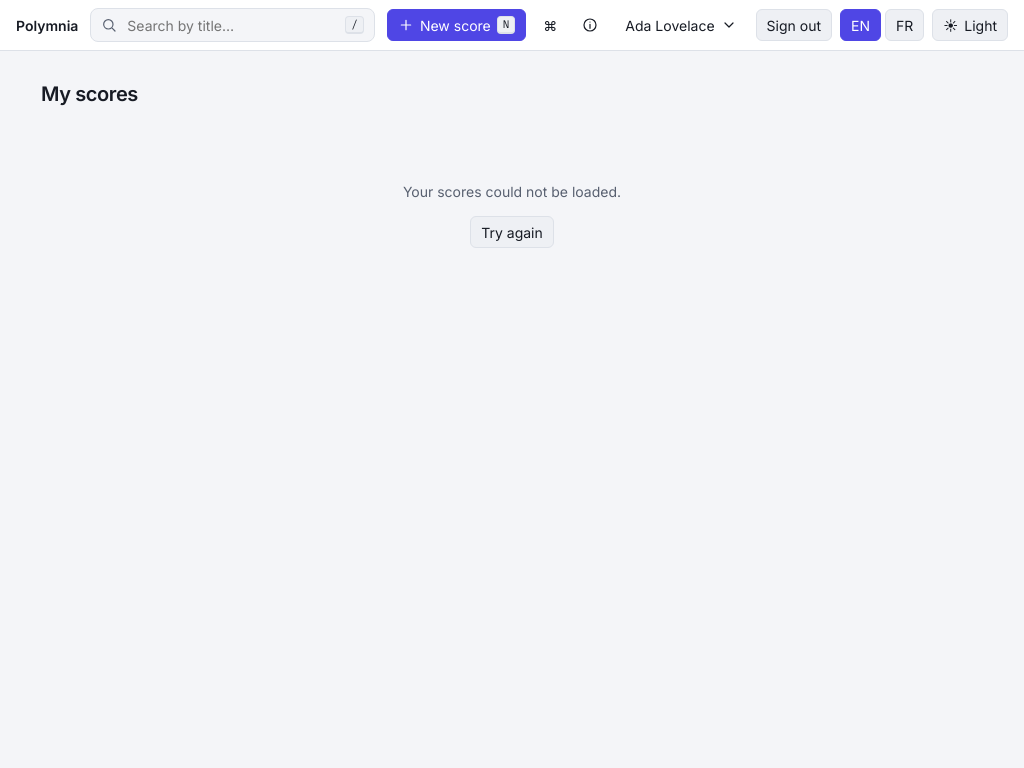
Scenario: session gate › shows the app and the user name once signed in, then signs out
Expected: the text "Ada Lovelace" is shown, left=625, top=14, right=715, bottom=36
Click the button "Sign out" at {"x": 794, "y": 25}, box left=756, top=9, right=832, bottom=41
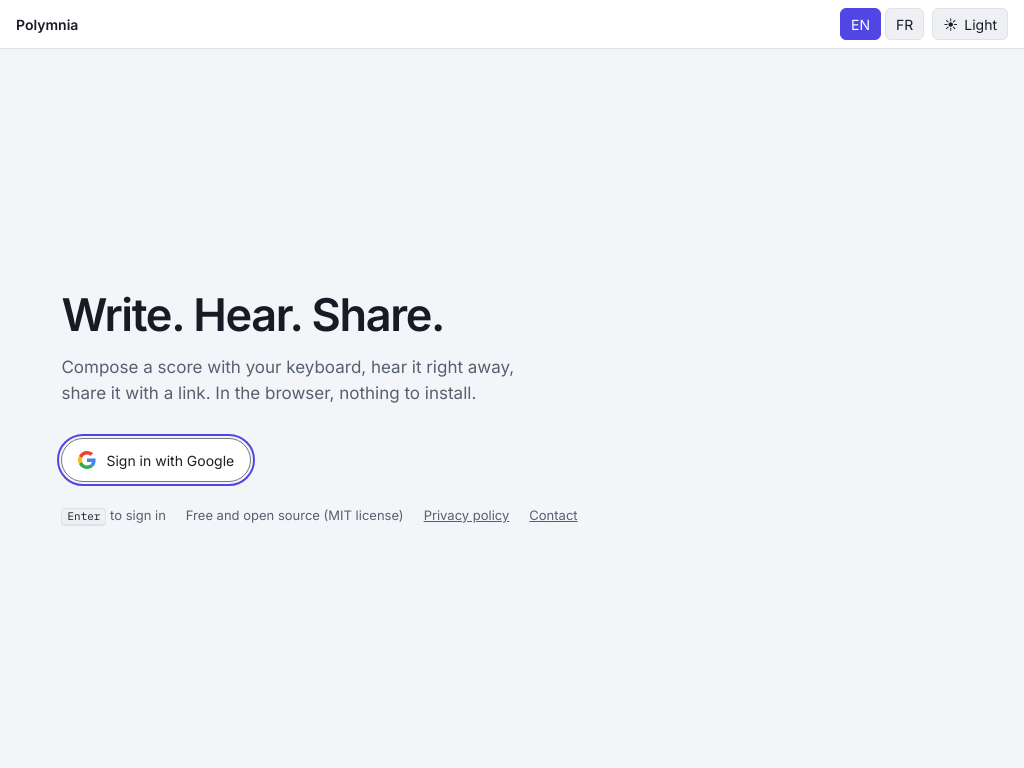
Expected: the link "Sign in with Google" is shown, left=61, top=438, right=251, bottom=482
